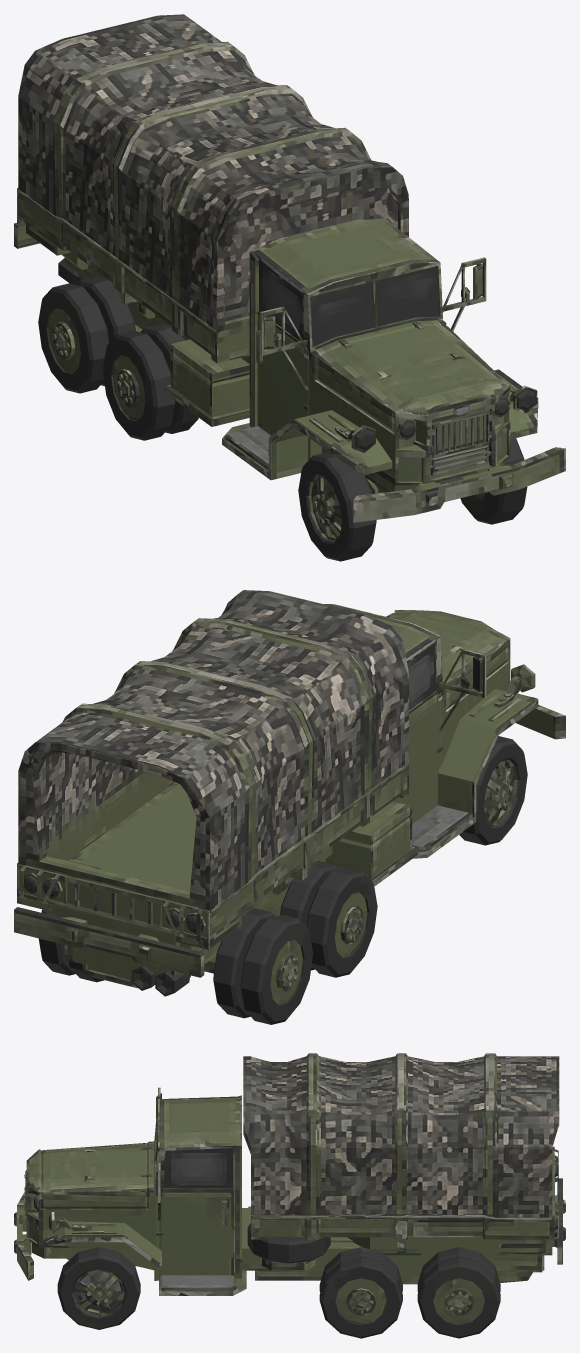
File: military_truck.obj
3 renders of one model, top to bottom at view 1: azimuth 30°, elevation 25°; view 2: azimuth 150°, elevation 25°; view 3: azimuth 270°, elevation 25°, orthographic. The views are drawn at different scales.
Visible parts, largest first — view 1: Cube.003_Material_0; view 2: Cube.003_Material_0; view 3: Cube.003_Material_0.
Boxes of the visible parts, x1=… form: Cube.003_Material_0: x1=14, y1=14, x2=565, y2=561; Cube.003_Material_0: x1=14, y1=590, x2=565, y2=1024; Cube.003_Material_0: x1=14, y1=1053, x2=565, y2=1338.
Size of the model in its own units: 2.86 by 3.44 by 7.8.
Materials: 1 (1 with a texture image).
